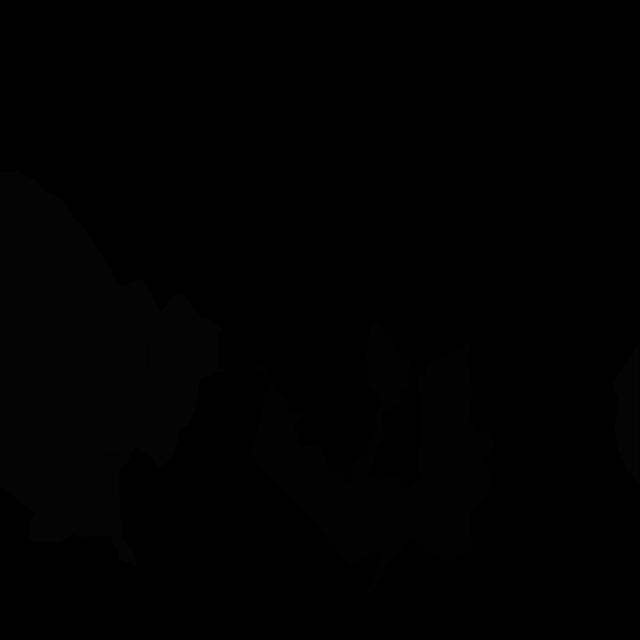cardboard: (248, 381, 354, 549), (336, 402, 428, 594), (418, 340, 474, 564), (365, 321, 411, 413), (469, 420, 496, 511), (250, 362, 271, 377)
soft_plastic: (0, 171, 160, 566), (75, 292, 226, 471), (612, 341, 640, 486)
